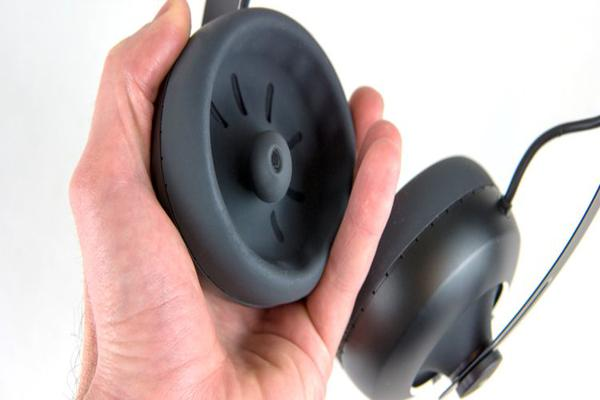headphone: (369, 69, 511, 310)
